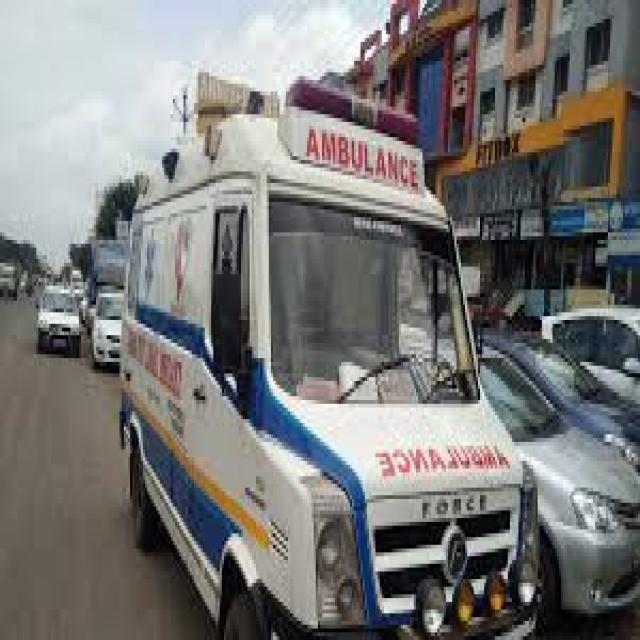ambulance: (127, 78, 509, 640)
